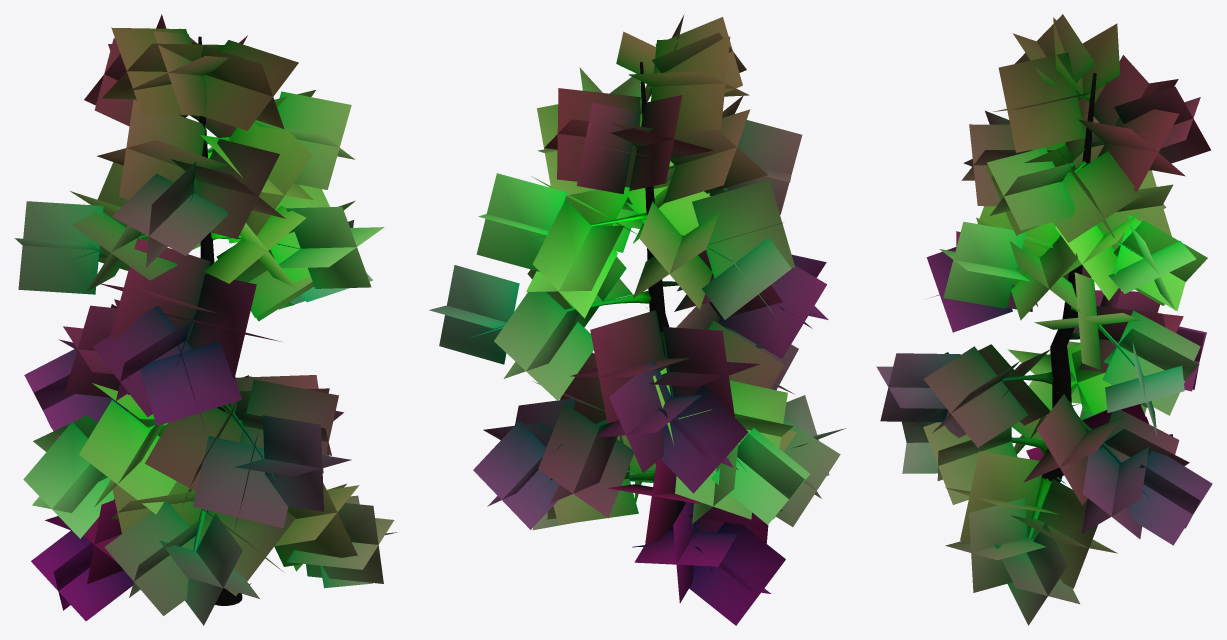
The model's file is M_P7_Tree_3.fbx.
3 renders of one model, left to right at view 1: azimuth 30°, elevation 25°; view 2: azimuth 150°, elevation 25°; view 3: azimuth 270°, elevation 25°, orthographic. The views are drawn at different scales.
Visible parts, largest first — view 1: Tree_3; view 2: Tree_3; view 3: Tree_3.
Boxes of the visible parts, x1,y1,x2,y2 form: Tree_3: (14, 14, 397, 625); Tree_3: (429, 14, 846, 625); Tree_3: (876, 14, 1212, 625).
Size of the model in its own units: 270 by 430 by 248.
